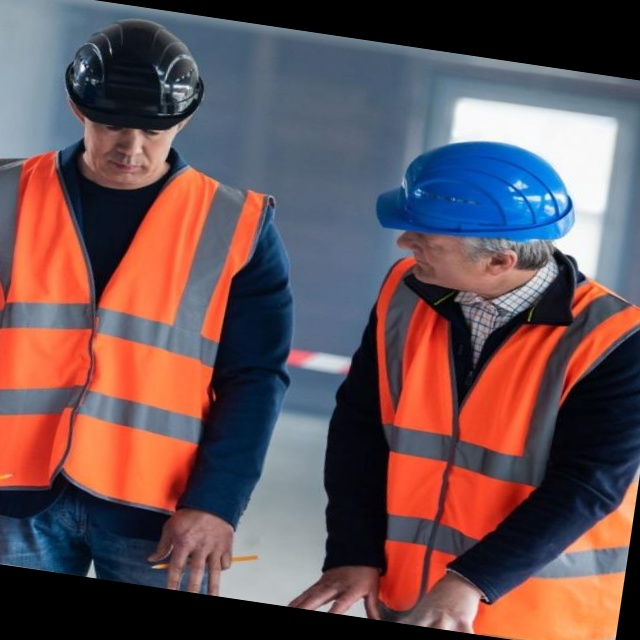Con_Casco: (362, 127, 579, 304)
Con_Chaleco: (338, 245, 640, 640), (0, 133, 270, 516)
